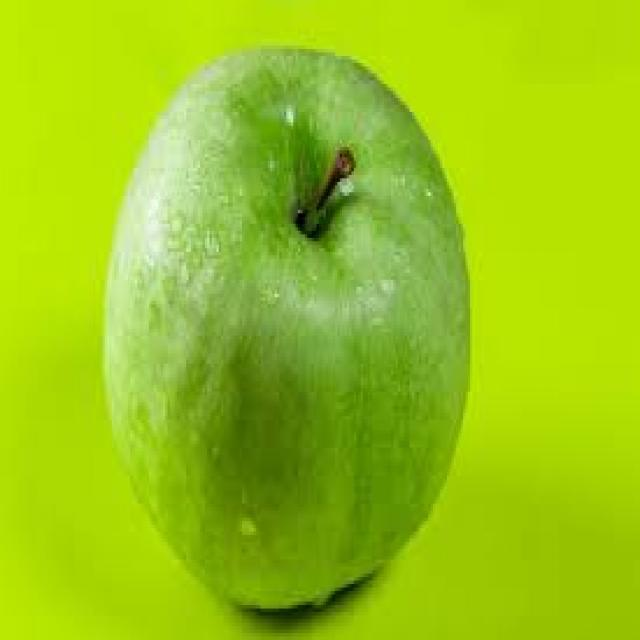Fresh Apple: (96, 40, 482, 628)
